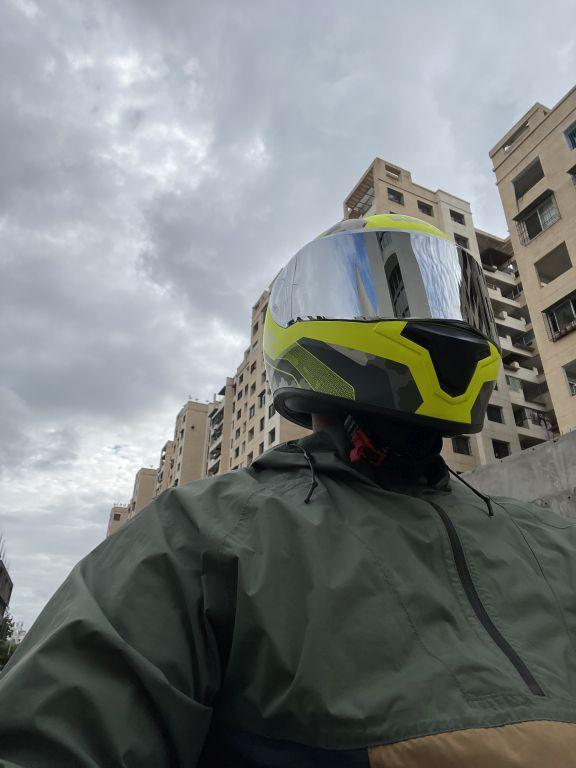helmet: (252, 205, 508, 465)
